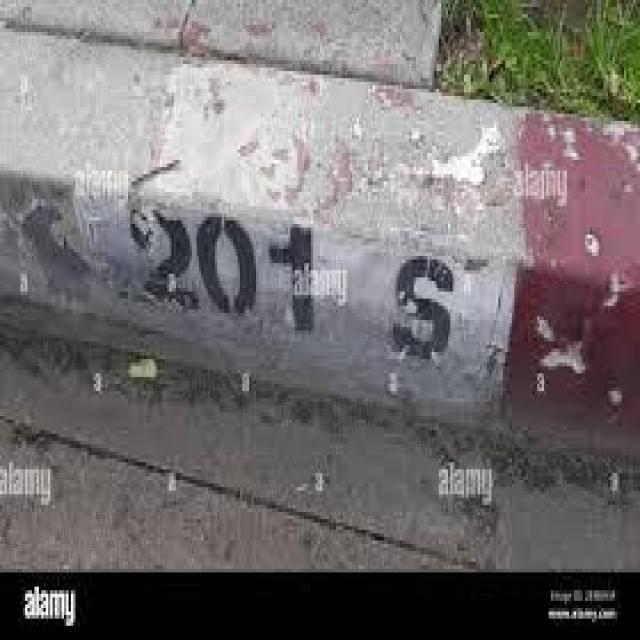curb: (3, 24, 640, 471)
